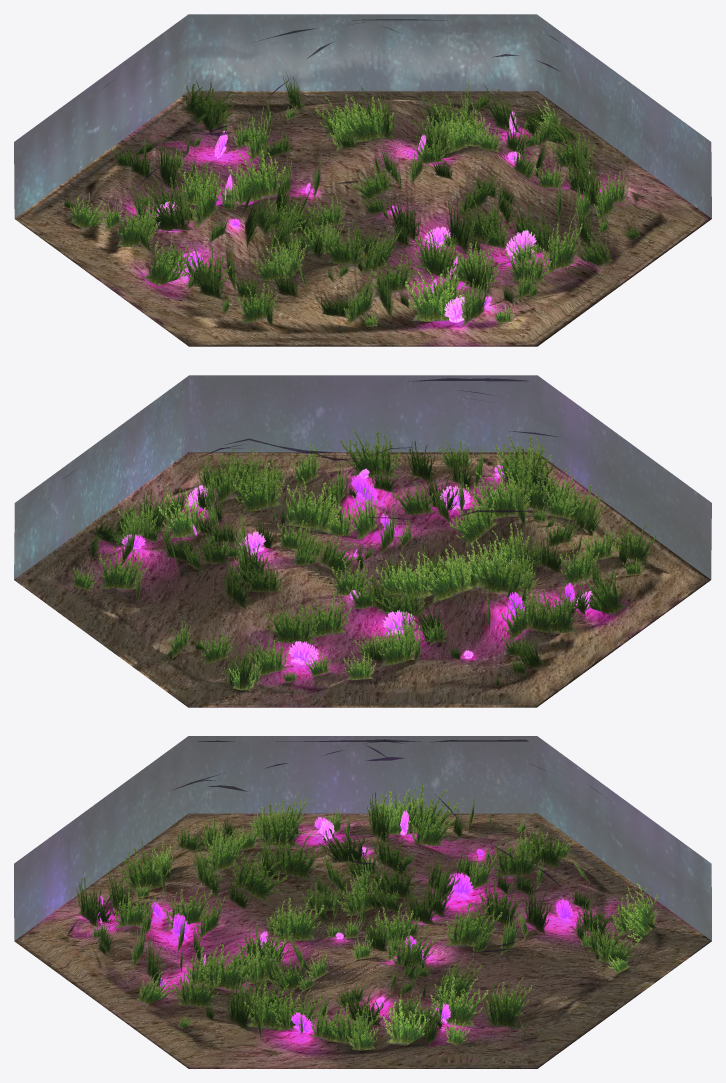
Rendered from DeepOcean_2_0_baked.glb.
3 views of the same model, one above another, from view 1: azimuth 30°, elevation 25°; view 2: azimuth 150°, elevation 25°; view 3: azimuth 270°, elevation 25° (orthographic).
Parts seen in each view (by area): view 1: deepocean_2_0; view 2: deepocean_2_0; view 3: deepocean_2_0.
Boxes of the visible parts, x1,y1,x2,y2 form: deepocean_2_0: (14, 14, 711, 346); deepocean_2_0: (14, 375, 711, 707); deepocean_2_0: (14, 736, 711, 1068).
Size of the model in its own units: 1.73 by 0.3936 by 2.
4 materials, 4 textured.
